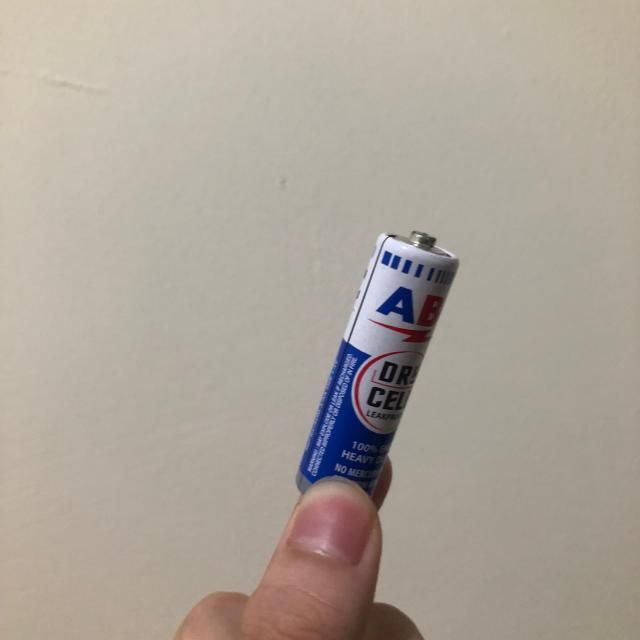b3: (295, 207, 461, 499)
